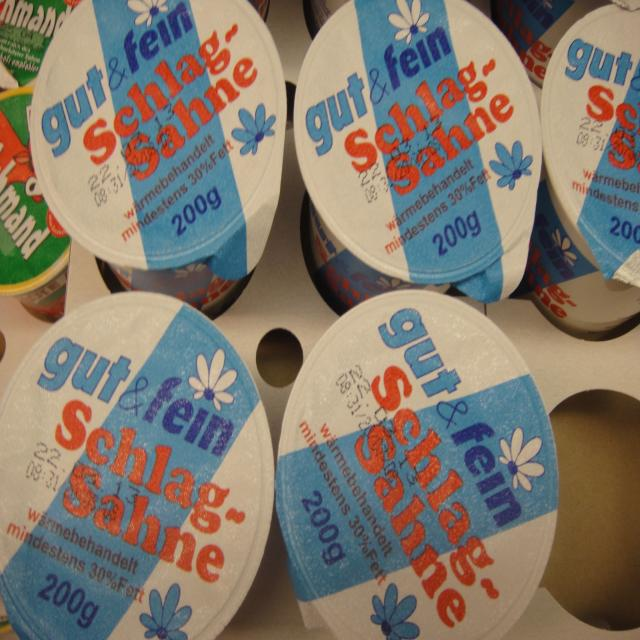cream: (276, 290, 559, 640), (0, 292, 273, 640), (30, 0, 286, 314), (295, 0, 542, 311), (526, 3, 640, 335)
sour cream: (0, 85, 69, 323), (0, 0, 79, 90)
